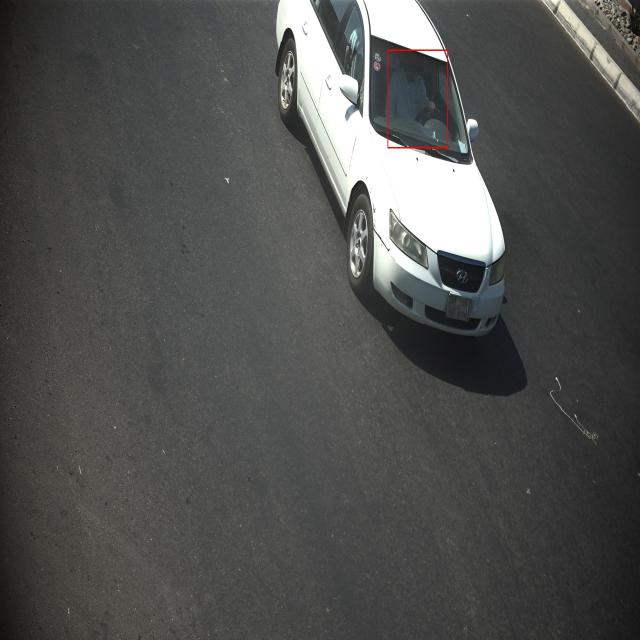windshield: (358, 26, 474, 167)
